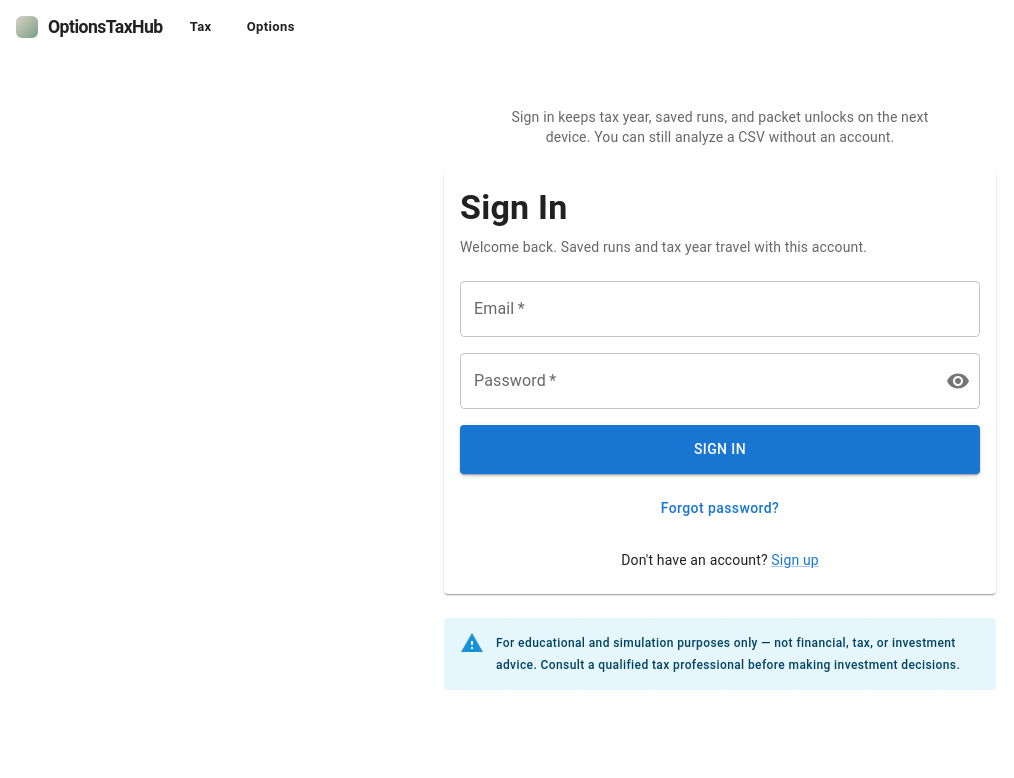
Sign In Page › resends confirmation from sign-in when the account is unconfirmed
This screenshot has width=1014, height=778.
Type "new@example.com" into the field labelled "Email *".
click(720, 309); type("new@example.com")  # box [460, 281, 980, 337]
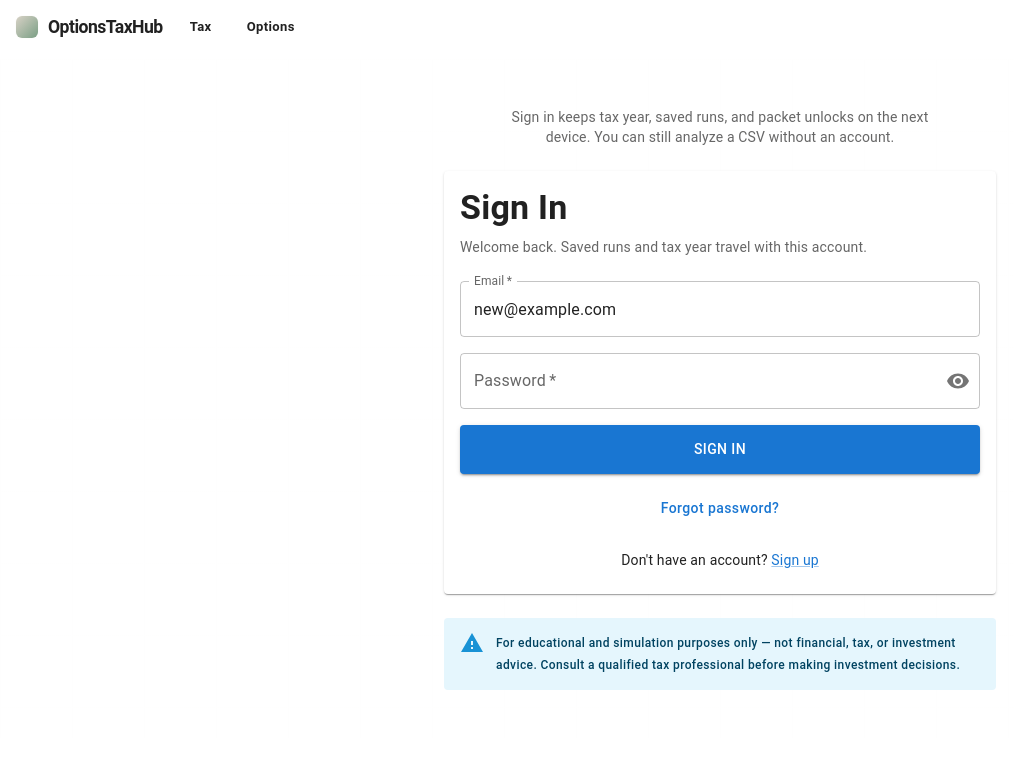
Type "password123" into the password field labelled "Password *".
click(695, 381); type("password123")  # box [460, 353, 930, 409]
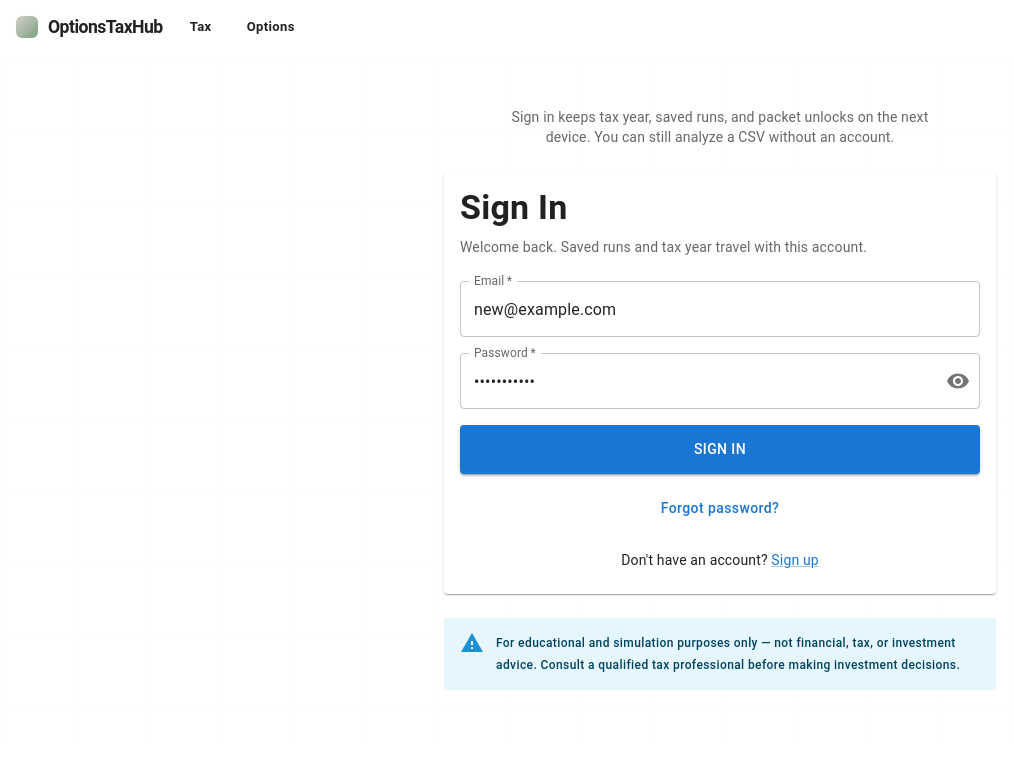
Submit the form, box [460, 281, 980, 526]
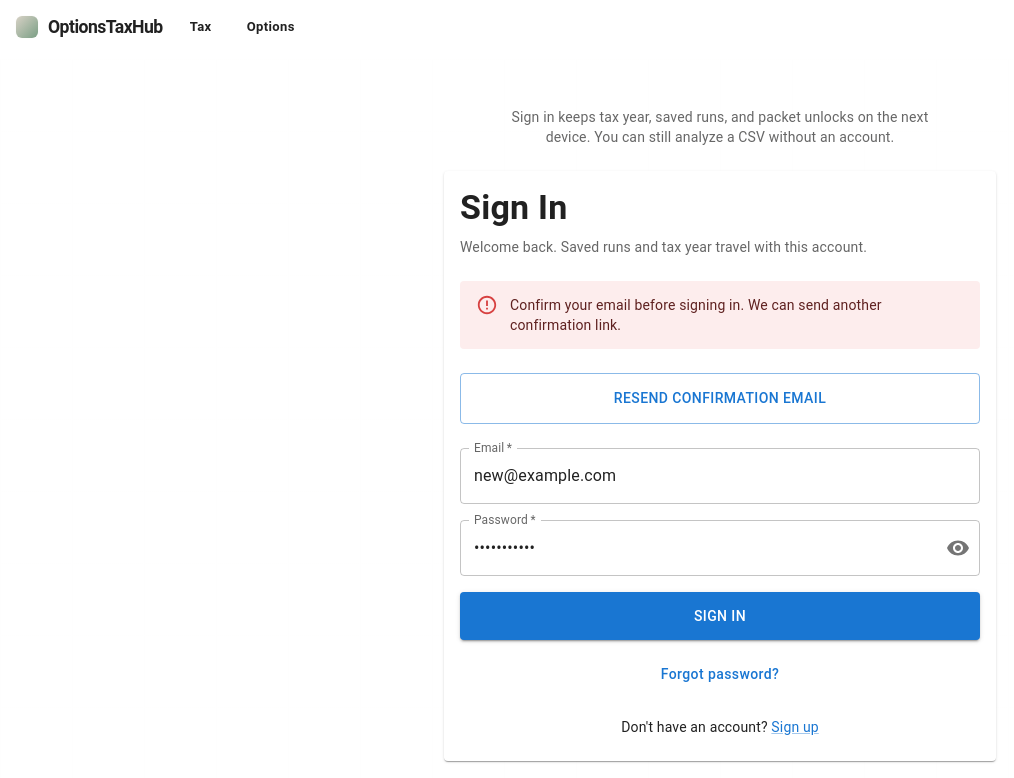
Result: the button "Resend confirmation email" is shown
Click the button "Resend confirmation email".
click(720, 398)  # box [460, 373, 980, 424]
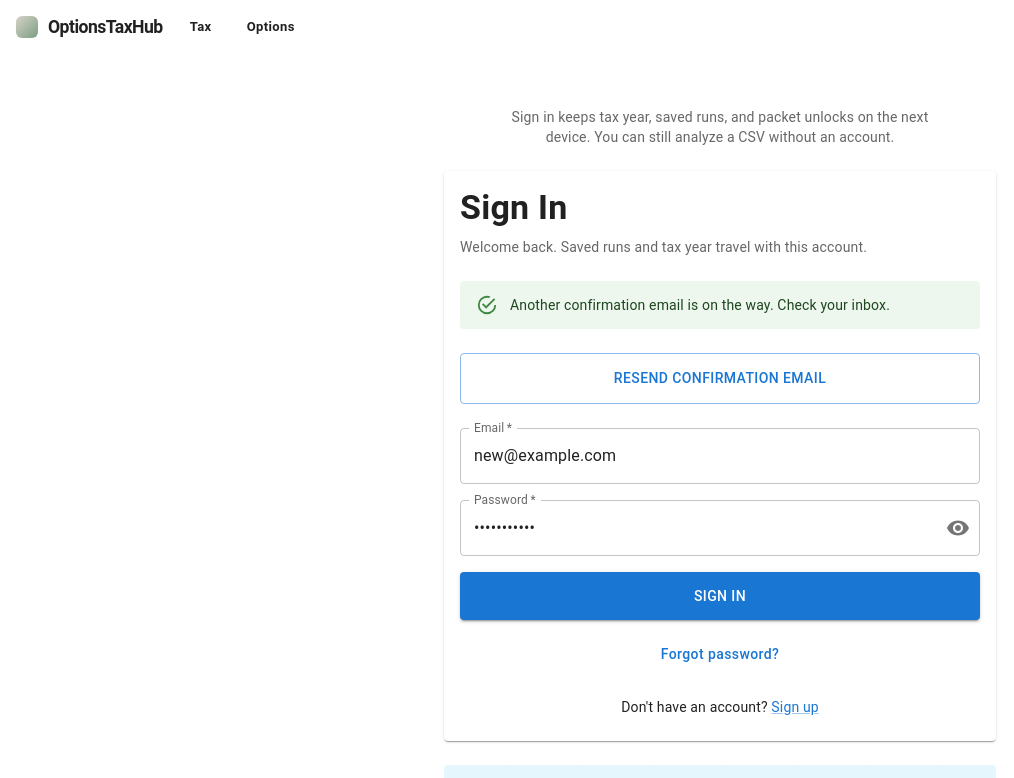
Result: the text "Another confirmation email is on the way. Check your inbox." is shown at [510, 297, 890, 313]
